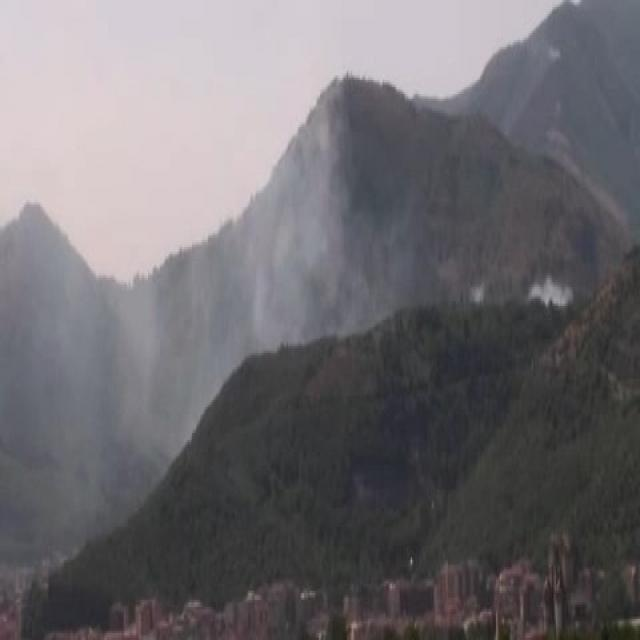smoke: (12, 318, 178, 470), (231, 171, 338, 351)
